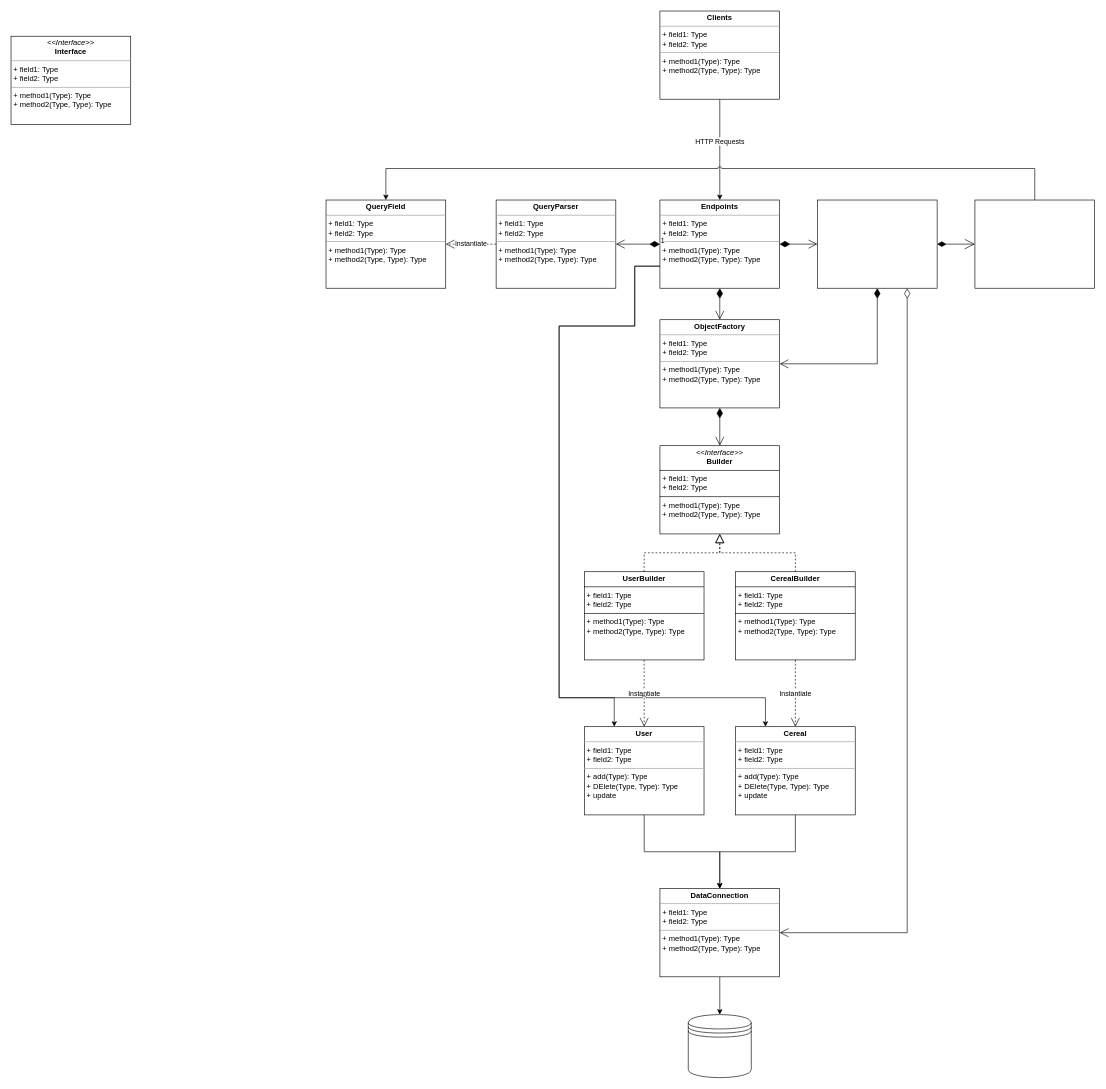
Some shapes in this 1106 by 1089 pixel diagram are drawn without their labels. The centre of each missing label's shape, as x and y in pixels:
SearchManager + field1: Type + field2: Type + search_cereal(Type): Type: the point at 877,243
SQLParser + field1: Type + field2: Type + generate_select(Type): Type: the point at 1034,243
